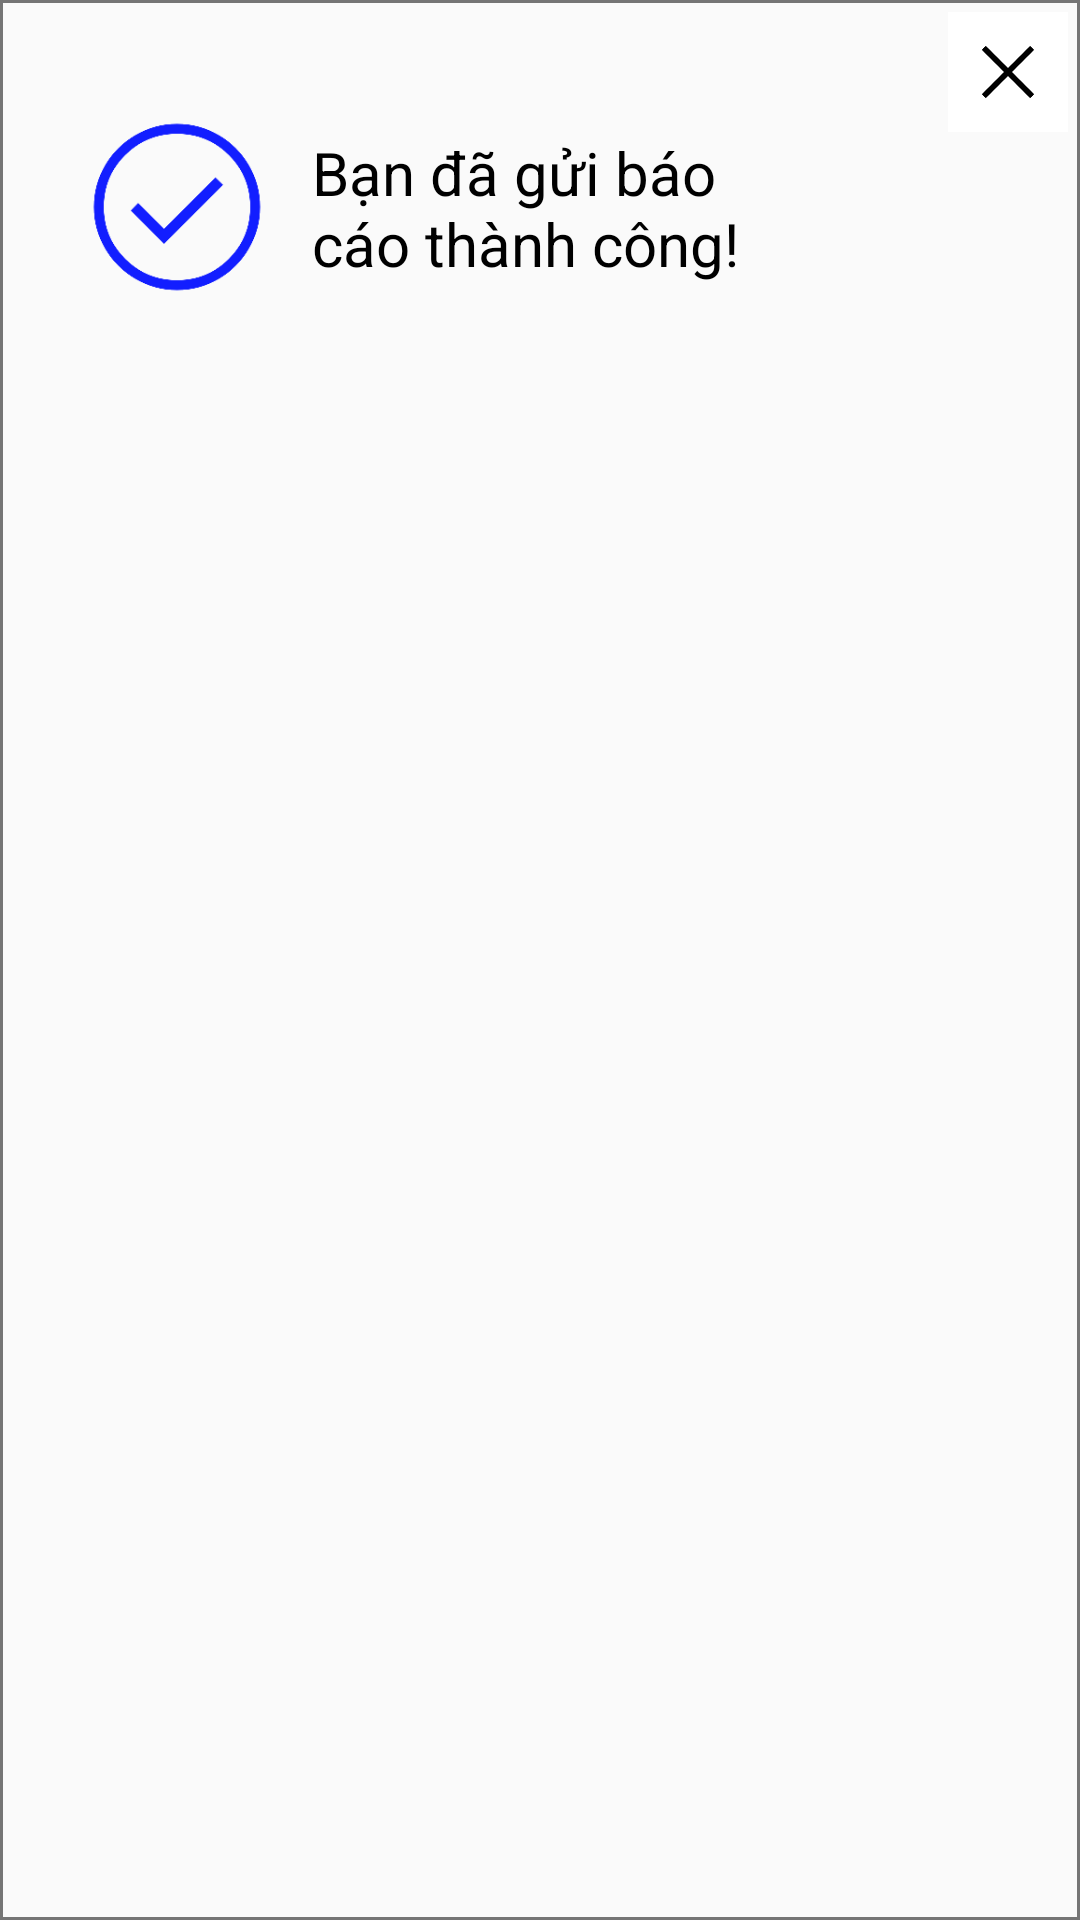

Where icons sit on this 1080x1920 app screen, as (x1, y1, x2, y2):
check: (93, 123, 261, 291)
close: (982, 46, 1034, 98)
